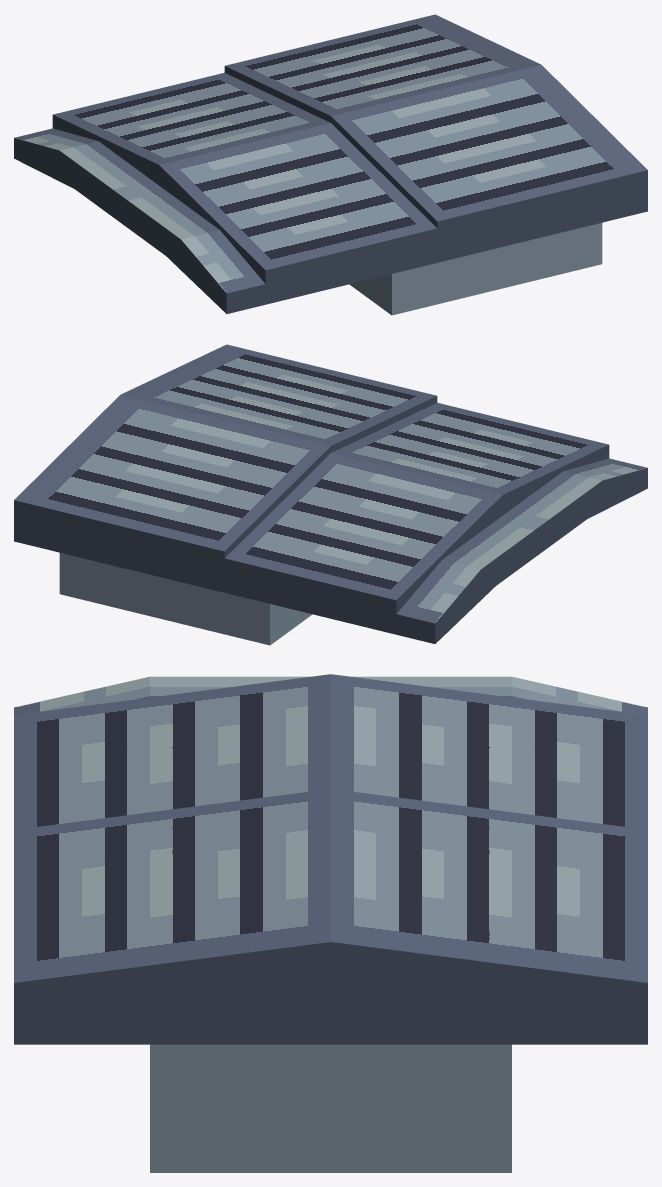
The model's file is df11_carport_center_cooling_fan.obj.
3 renders of one model, top to bottom at view 1: azimuth 30°, elevation 25°; view 2: azimuth 150°, elevation 25°; view 3: azimuth 270°, elevation 25°, orthographic. The views are drawn at different scales.
Parts seen in each view (by area): view 1: cube_selection; view 2: cube_selection; view 3: cube_selection.
Boxes of the visible parts, x1,y1,x2,y2 form: cube_selection: (14,14,647,315); cube_selection: (14,344,647,645); cube_selection: (14,674,647,1172).
Size of the model in its own units: 2 by 0.7031 by 1.75.
